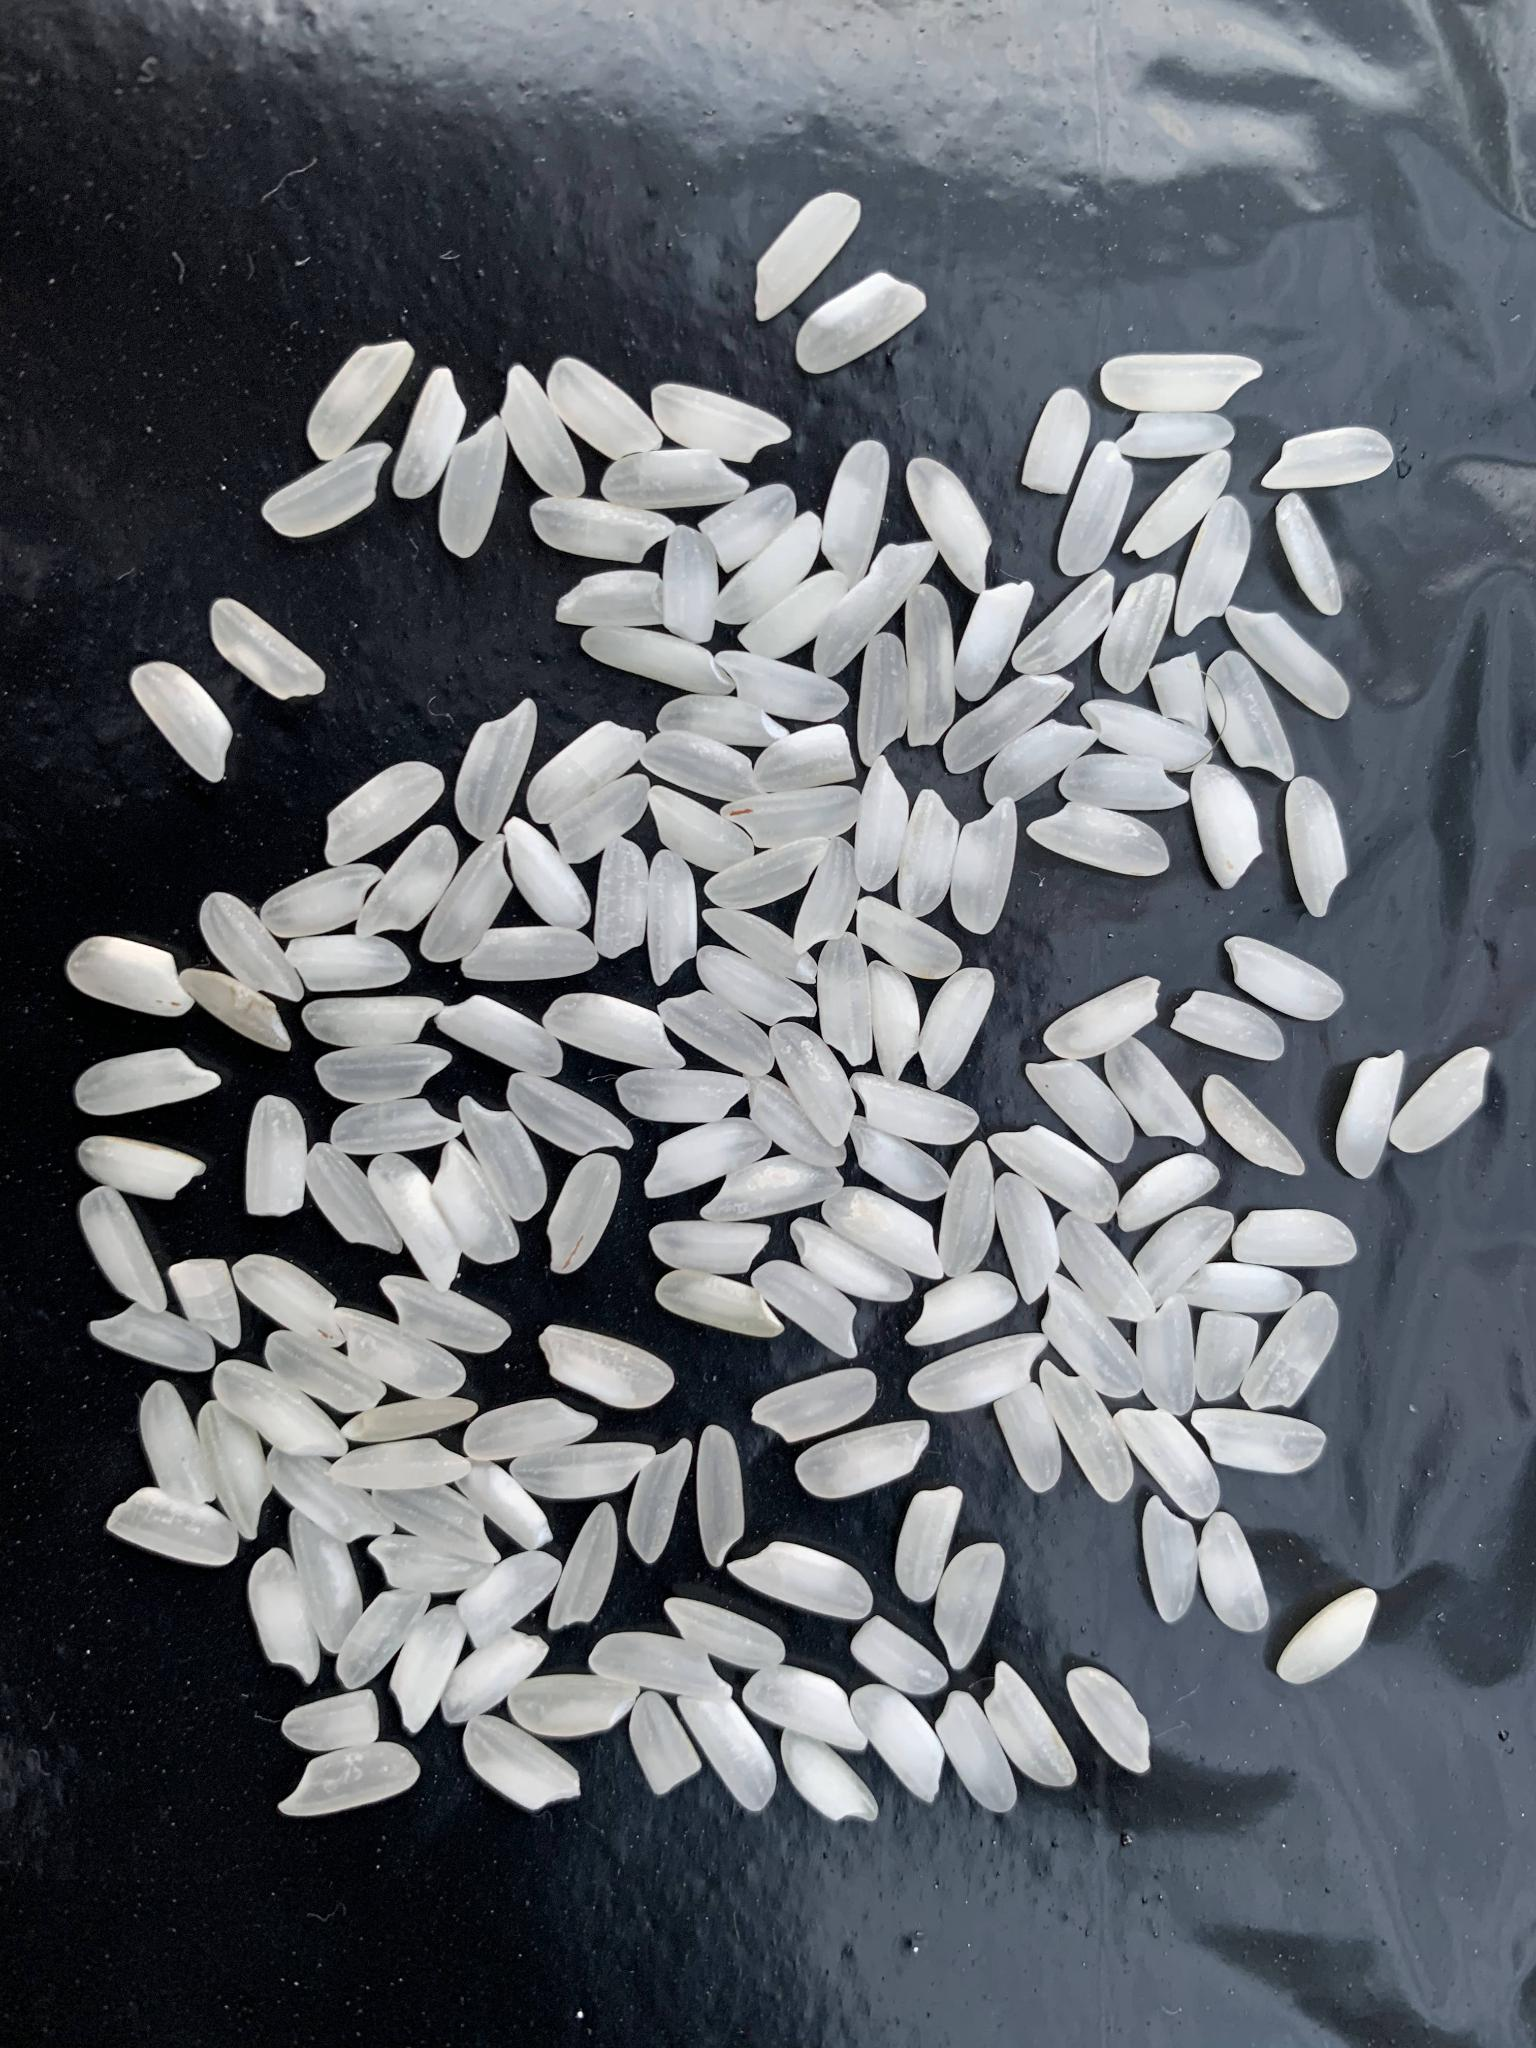rice: (812, 539, 937, 677), (752, 194, 862, 324), (1226, 606, 1350, 719), (211, 1358, 349, 1459), (795, 273, 928, 376), (942, 676, 1075, 777), (261, 439, 394, 539), (987, 1126, 1120, 1226), (1044, 1271, 1146, 1400), (307, 340, 415, 461), (323, 760, 444, 868), (1041, 1363, 1134, 1501), (369, 1151, 461, 1290), (208, 595, 328, 701), (269, 1445, 395, 1543), (1205, 650, 1297, 784), (131, 663, 232, 784), (336, 1306, 465, 1401), (529, 721, 645, 826), (1239, 1292, 1341, 1411), (457, 697, 539, 843), (678, 1688, 776, 1811), (1125, 448, 1233, 560), (1113, 1408, 1220, 1521), (907, 456, 994, 593), (986, 1661, 1078, 1790), (202, 892, 307, 1005), (549, 358, 665, 460), (421, 834, 511, 964), (1388, 1043, 1492, 1155), (1025, 1059, 1136, 1164), (716, 513, 821, 624), (77, 1185, 168, 1314), (465, 1716, 582, 1814), (824, 1187, 945, 1282), (1200, 1071, 1309, 1177), (1102, 1035, 1205, 1147), (355, 827, 458, 939), (503, 366, 587, 502), (731, 1540, 871, 1621), (907, 1332, 1049, 1411), (458, 1098, 549, 1222), (652, 384, 791, 464), (547, 992, 686, 1072), (65, 932, 195, 1018), (739, 1664, 870, 1750), (541, 1326, 674, 1408), (1058, 1213, 1157, 1324), (1012, 571, 1115, 676), (645, 1114, 776, 1197), (307, 1143, 402, 1256), (1173, 497, 1250, 635), (581, 627, 736, 697), (108, 1487, 240, 1567), (378, 1274, 510, 1355), (1134, 1206, 1238, 1309), (276, 1743, 419, 1817), (73, 1048, 223, 1119), (852, 1685, 942, 1803), (245, 1550, 323, 1687), (290, 1513, 365, 1655), (1028, 801, 1170, 876), (821, 437, 892, 585), (197, 1400, 273, 1538), (795, 1421, 931, 1498), (753, 1259, 858, 1359), (508, 1072, 636, 1155), (457, 1553, 565, 1650), (432, 1140, 516, 1264), (771, 1022, 855, 1147), (791, 1218, 912, 1303), (1276, 1587, 1379, 1687), (1055, 439, 1129, 577), (268, 1330, 390, 1414), (234, 1255, 344, 1348), (440, 995, 565, 1077), (503, 816, 592, 930), (1041, 976, 1162, 1059), (658, 990, 774, 1077), (442, 1630, 550, 1724), (437, 414, 507, 560), (737, 572, 849, 663), (955, 577, 1036, 701), (649, 785, 757, 877), (850, 1071, 981, 1147), (139, 1380, 219, 1503), (1225, 937, 1342, 1021), (336, 1587, 431, 1690), (179, 968, 294, 1053), (699, 1155, 845, 1221), (394, 368, 468, 498), (920, 968, 999, 1090), (699, 945, 816, 1027), (936, 1692, 1016, 1811), (950, 797, 1020, 935), (591, 1632, 733, 1700), (532, 497, 678, 563), (986, 719, 1096, 806), (1100, 569, 1176, 695), (720, 651, 850, 724), (1284, 774, 1349, 919), (1100, 355, 1262, 413), (261, 864, 382, 942), (744, 1076, 845, 1168), (750, 1369, 876, 1443), (694, 484, 797, 574), (1070, 1663, 1152, 1775), (549, 1501, 620, 1632), (779, 1730, 879, 1822), (550, 772, 650, 864), (723, 784, 862, 850), (666, 1595, 786, 1671), (936, 1543, 1007, 1671), (1334, 1050, 1405, 1177), (849, 1113, 949, 1203), (1189, 1409, 1325, 1476), (653, 1271, 786, 1338), (857, 897, 963, 980), (703, 905, 816, 984), (457, 1458, 553, 1550), (904, 1272, 1018, 1350), (1273, 490, 1342, 618), (1192, 768, 1263, 892), (507, 1442, 658, 1500), (549, 1155, 621, 1276), (997, 1172, 1063, 1305), (1258, 426, 1394, 490), (89, 1301, 215, 1371), (315, 1043, 453, 1106), (703, 839, 829, 908), (626, 1438, 694, 1564), (1118, 1151, 1221, 1234), (1199, 1514, 1270, 1634), (599, 450, 749, 506), (895, 1484, 966, 1601), (77, 1135, 207, 1200), (907, 584, 957, 748), (1171, 990, 1284, 1063), (507, 1675, 639, 1737), (849, 1614, 950, 1693), (1231, 1208, 1359, 1271), (1020, 385, 1091, 497), (461, 924, 600, 980), (795, 837, 863, 951), (897, 789, 957, 918), (752, 722, 855, 797), (324, 1437, 471, 1488), (854, 758, 910, 892), (328, 1100, 461, 1156), (632, 1692, 702, 1800), (937, 1142, 992, 1276), (994, 1384, 1062, 1492), (339, 1397, 479, 1448), (818, 930, 871, 1066), (645, 847, 697, 985), (1144, 1496, 1200, 1622), (1137, 1293, 1196, 1414), (247, 1097, 305, 1218), (287, 935, 411, 992), (615, 1069, 750, 1121), (1057, 755, 1191, 806), (658, 697, 792, 748), (300, 998, 442, 1047), (857, 632, 907, 769), (555, 571, 670, 631), (171, 1256, 242, 1350), (700, 1424, 745, 1569), (594, 837, 647, 959), (868, 958, 920, 1084), (652, 1219, 770, 1274), (1113, 411, 1241, 461), (666, 522, 718, 645), (281, 1690, 381, 1750), (1197, 1313, 1258, 1403)
